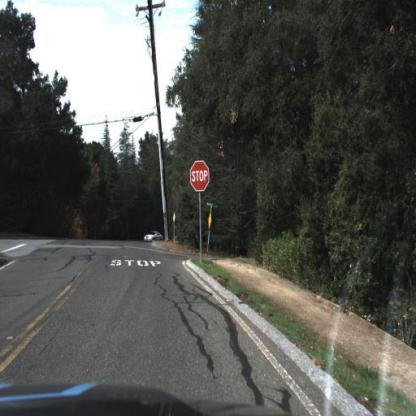car: (143, 229, 165, 244)
